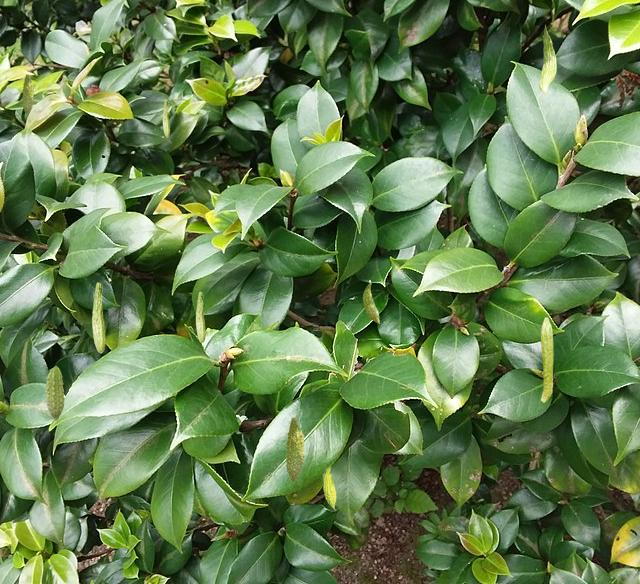ampalaya: (284, 417, 305, 482), (538, 24, 557, 94), (44, 365, 65, 421), (540, 317, 553, 402), (91, 282, 106, 353), (362, 279, 380, 324), (322, 463, 336, 510), (195, 291, 206, 343), (21, 73, 34, 115), (162, 99, 170, 138)
